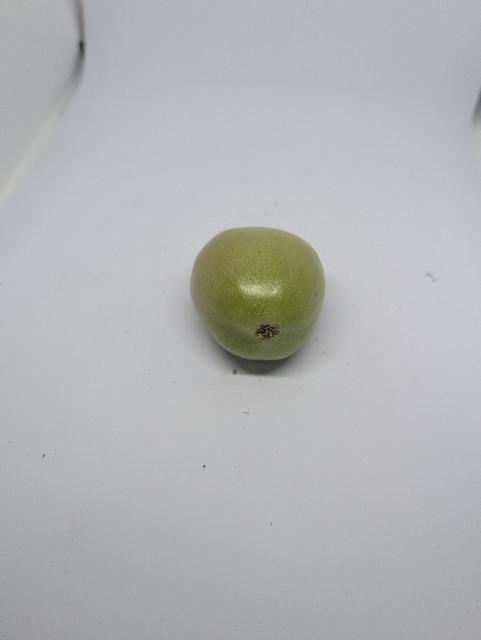green: (188, 224, 332, 364)
